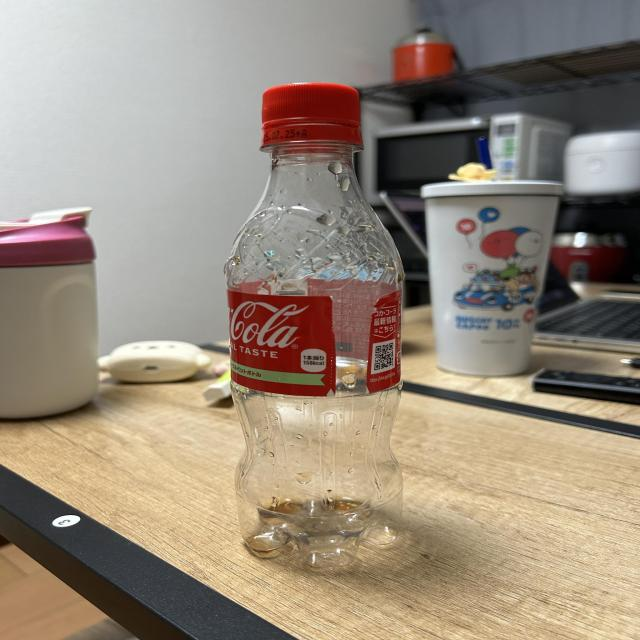empty: (224, 83, 403, 568)
